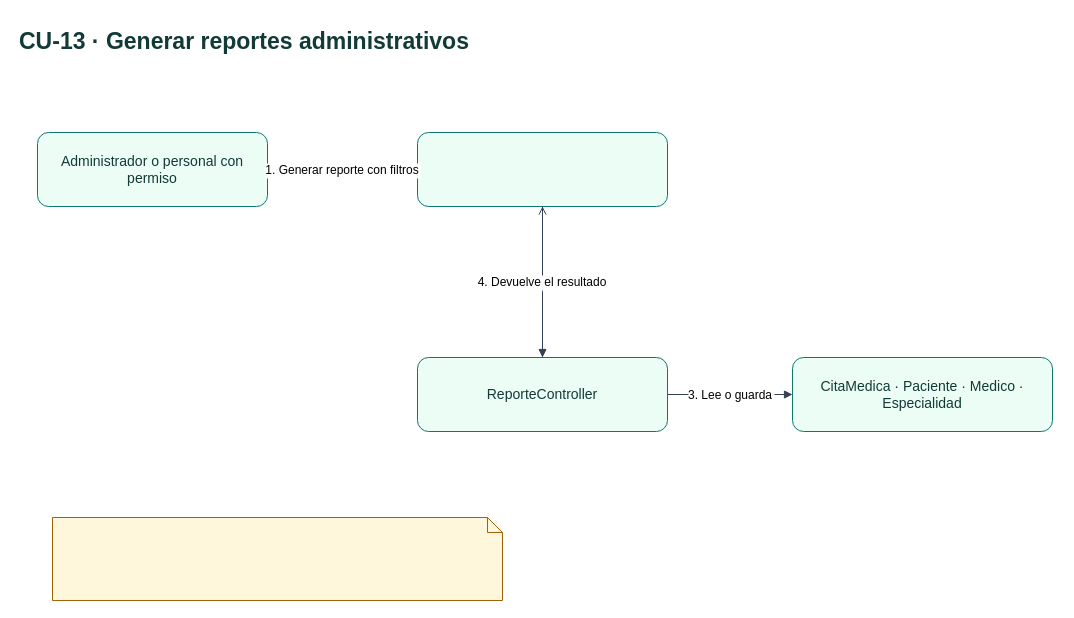
Image size: 1074x618. Some labels were removed from this diagram. The shapes that lost their labels are listed below. From the top down, each one's centre as x and y in pixels, then its label:
[542,169]: Pantalla Reportes
[277,558]: Reporte y totales
